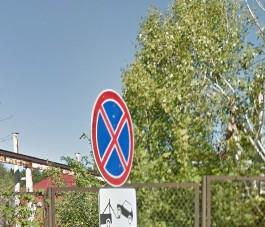No Parking: (91, 90, 135, 189)
